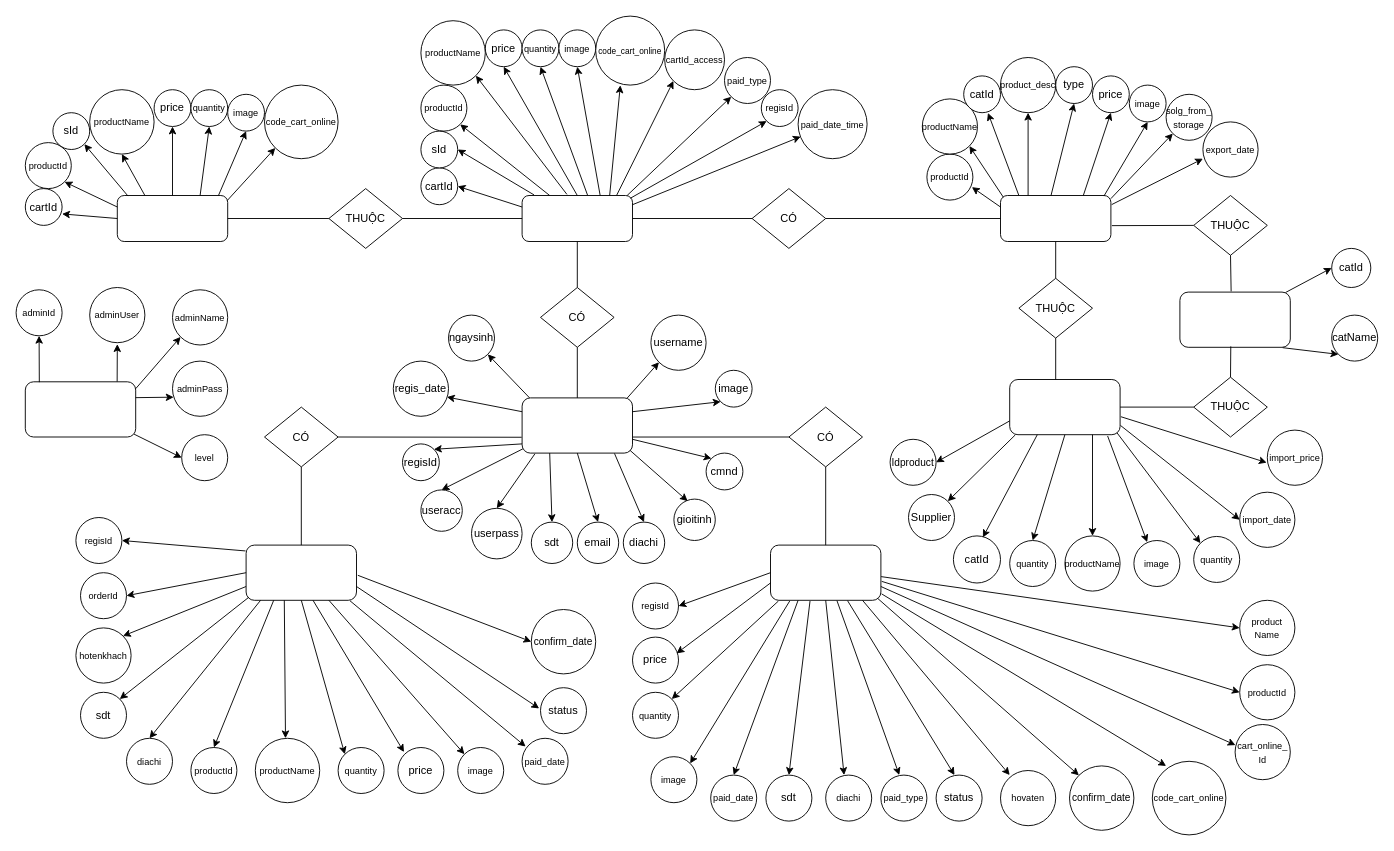
Some shapes in this 1394 by 851 pixel diagram are drawn without their labels. Here are the shapes that lost their labels. From the top down, the centre of each, then its label:
the point at 172,218: Giỏ hàng (tạm thời)
the point at 576,218: Giỏ hàng (sau thanh toán)
the point at 1055,218: Sản phẩm
the point at 1234,319: Loại sản phẩm
the point at 80,409: Người quản lý
the point at 576,425: Người dùng
the point at 1064,407: Sản phẩm trong kho
the point at 300,572: Đơn hàng offline
the point at 825,572: Đơn hàng online
